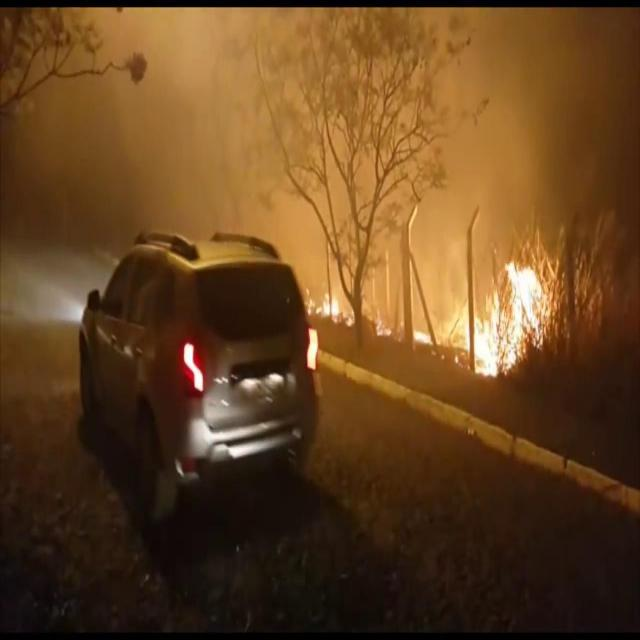Fire: (456, 256, 550, 376), (314, 289, 338, 322), (413, 329, 435, 347)
